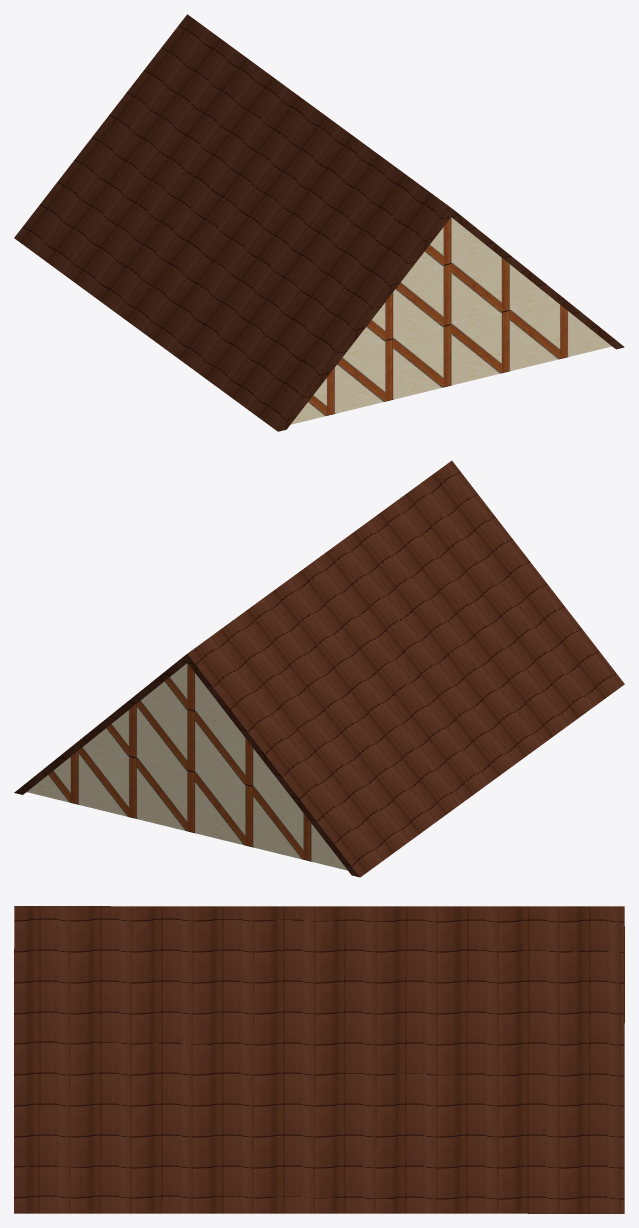
File: roof5.obj
3 renders of one model, top to bottom at view 1: azimuth 30°, elevation 25°; view 2: azimuth 150°, elevation 25°; view 3: azimuth 270°, elevation 25°, orthographic. The views are drawn at different scales.
Parts seen in each view (by area): view 1: Object.2, Object.1; view 2: Object.2, Object.1; view 3: Object.2.
Part boxes in pixels (x1=…): Object.2: x1=14, y1=14, x2=624, y2=431; Object.1: x1=291, y1=217, x2=611, y2=424; Object.2: x1=14, y1=460, x2=624, y2=877; Object.1: x1=27, y1=663, x2=347, y2=870; Object.2: x1=14, y1=906, x2=624, y2=1213.
Bounding box in the file's own units: 6.25 × 3.12 × 8.25.
